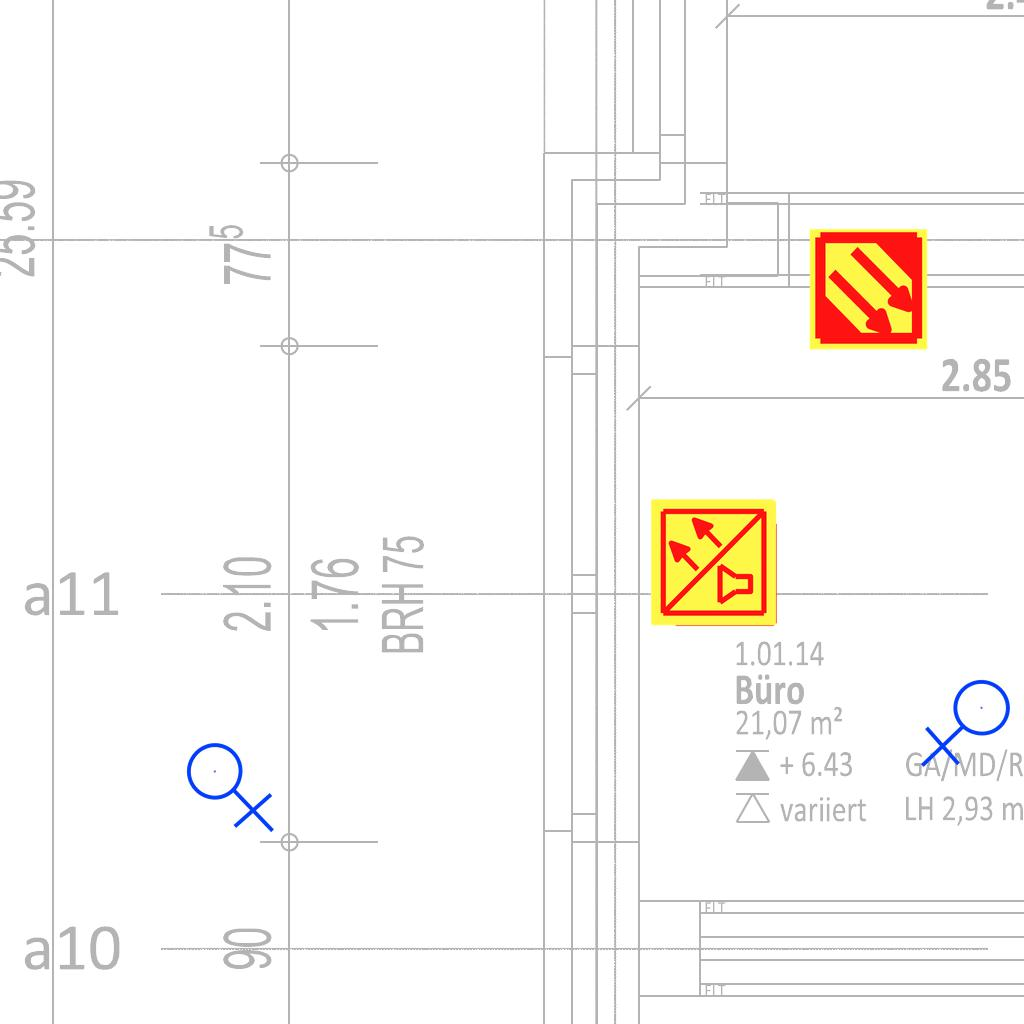ASR_Ansaugrauchmelder: (806, 227, 931, 352)
Elektroanschluss_allgemein_230V_Geraeteanschlussdose_230V: (185, 734, 279, 833), (920, 678, 1019, 772)
OKW_Multisensormelder_(Kombination_optischer_Rauch-Kahlenmonoxid_Waerme-Melder): (648, 496, 780, 628)
